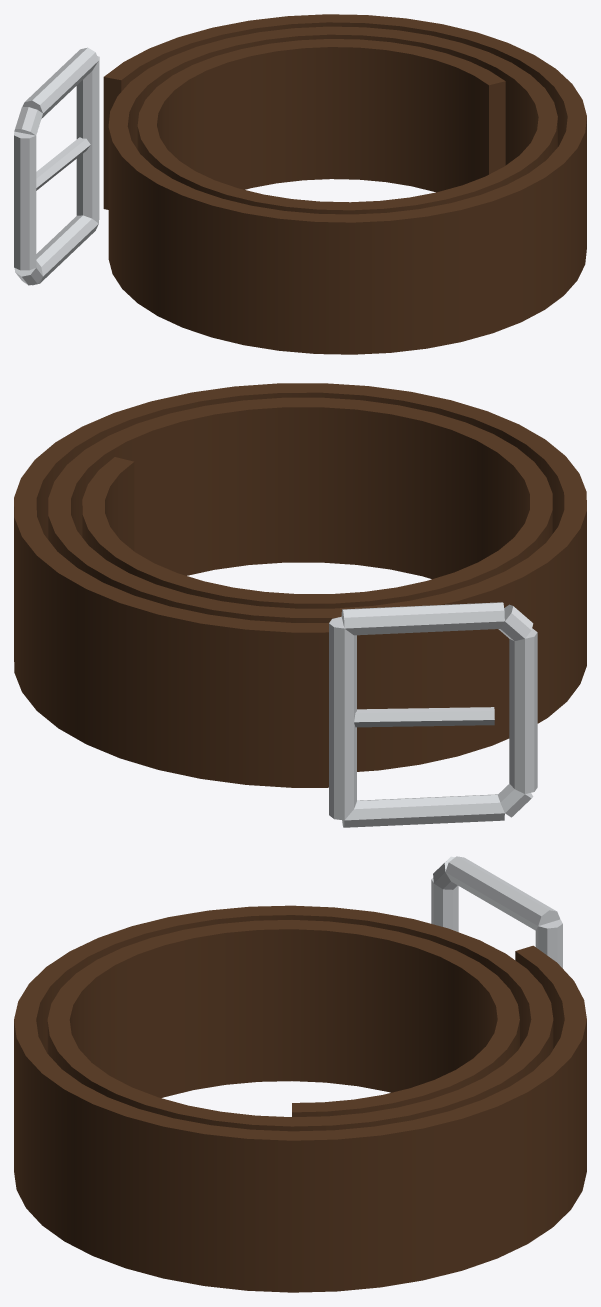
Rendered from Display_Belt_Coiled.fbx.
3 renders of one model, top to bottom at view 1: azimuth 30°, elevation 25°; view 2: azimuth 150°, elevation 25°; view 3: azimuth 270°, elevation 25°, orthographic. The views are drawn at different scales.
Parts seen in each view (by area): view 1: Display_Belt_Coiled; view 2: Display_Belt_Coiled; view 3: Display_Belt_Coiled.
Boxes of the visible parts, bbox=[...] form: Display_Belt_Coiled: bbox=[14, 14, 586, 354]; Display_Belt_Coiled: bbox=[14, 383, 586, 827]; Display_Belt_Coiled: bbox=[14, 856, 586, 1292].
Size of the model in its own units: 0.1279 by 0.0476 by 0.1162.
